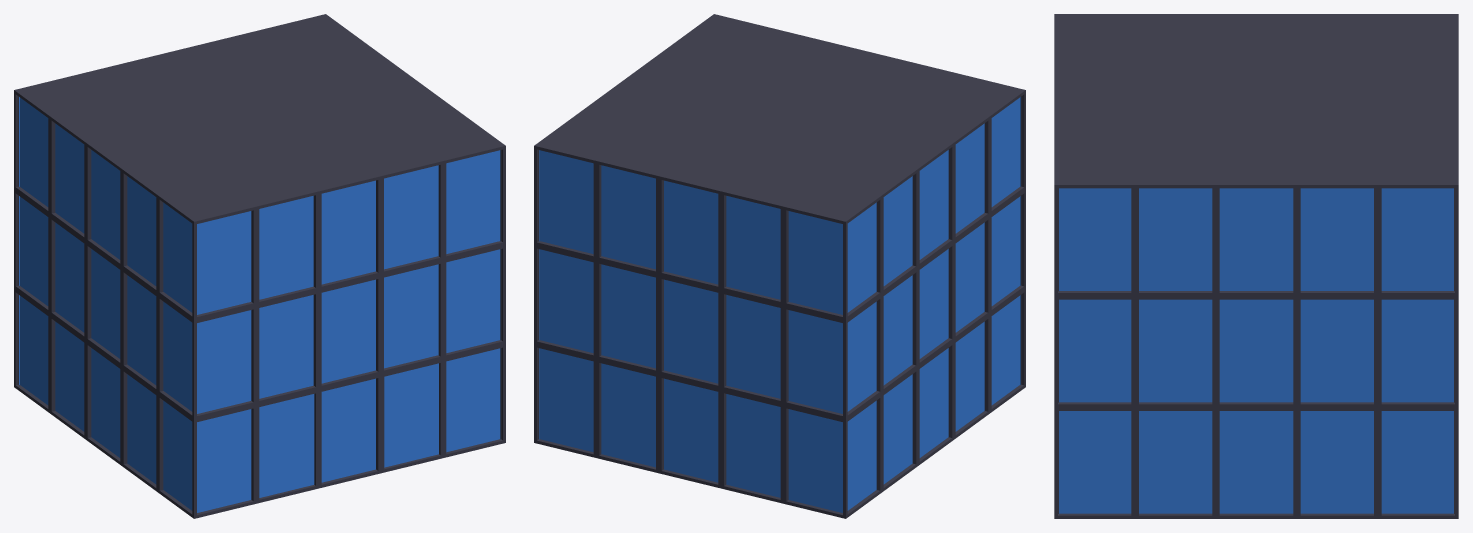
Rendered from building_1x1_7_f.glb.
3 renders of one model, left to right at view 1: azimuth 30°, elevation 25°; view 2: azimuth 150°, elevation 25°; view 3: azimuth 270°, elevation 25°, orthographic. The views are drawn at different scales.
Parts seen in each view (by area): view 1: SecondFloor; view 2: SecondFloor; view 3: SecondFloor.
Boxes of the visible parts, box(x1,y1,x2,y2) form: SecondFloor: box(14, 14, 505, 518); SecondFloor: box(534, 14, 1025, 518); SecondFloor: box(1054, 14, 1458, 518).
Bounding box in the file's own units: 1.73 × 1.58 × 1.73.
